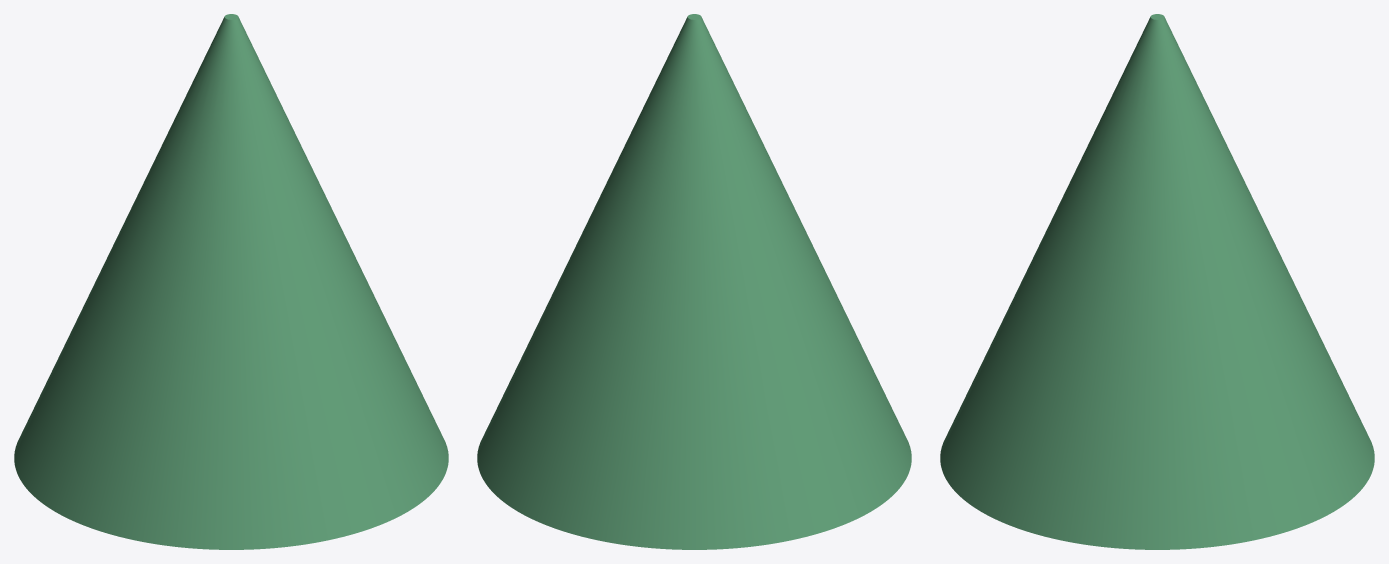
Rendered from esp2024_p37_topmark_cone.glb.
3 renders of one model, left to right at view 1: azimuth 30°, elevation 25°; view 2: azimuth 150°, elevation 25°; view 3: azimuth 270°, elevation 25°, orthographic.
Visible parts, largest first — view 1: topmark, cone (green); view 2: topmark, cone (green); view 3: topmark, cone (green).
Boxes of the visible parts, box(x1,y1,x2,y2) form: topmark, cone (green): box(14, 14, 448, 549); topmark, cone (green): box(477, 14, 911, 549); topmark, cone (green): box(940, 14, 1374, 549).
Size of the model in its own units: 250 by 280 by 250.
